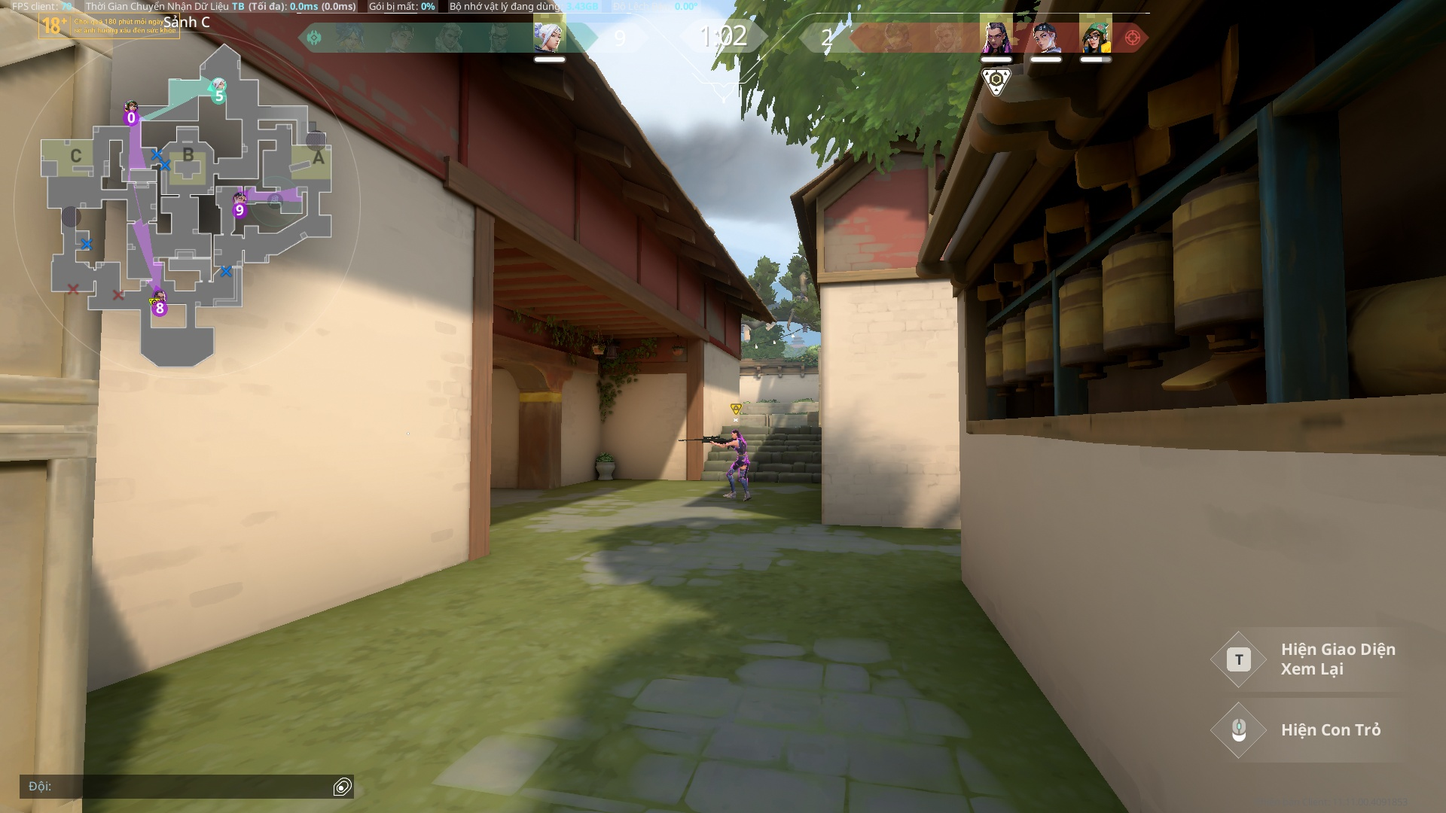body: (732, 437, 748, 455)
head: (731, 428, 740, 439)
